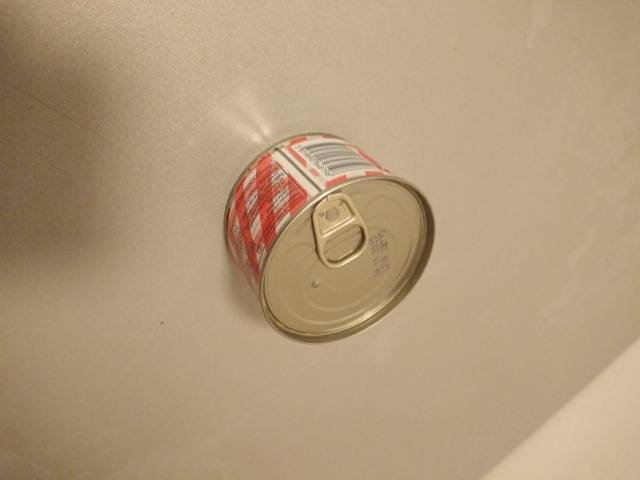Podravka Luncheon Meat 150g: (221, 128, 438, 347)
